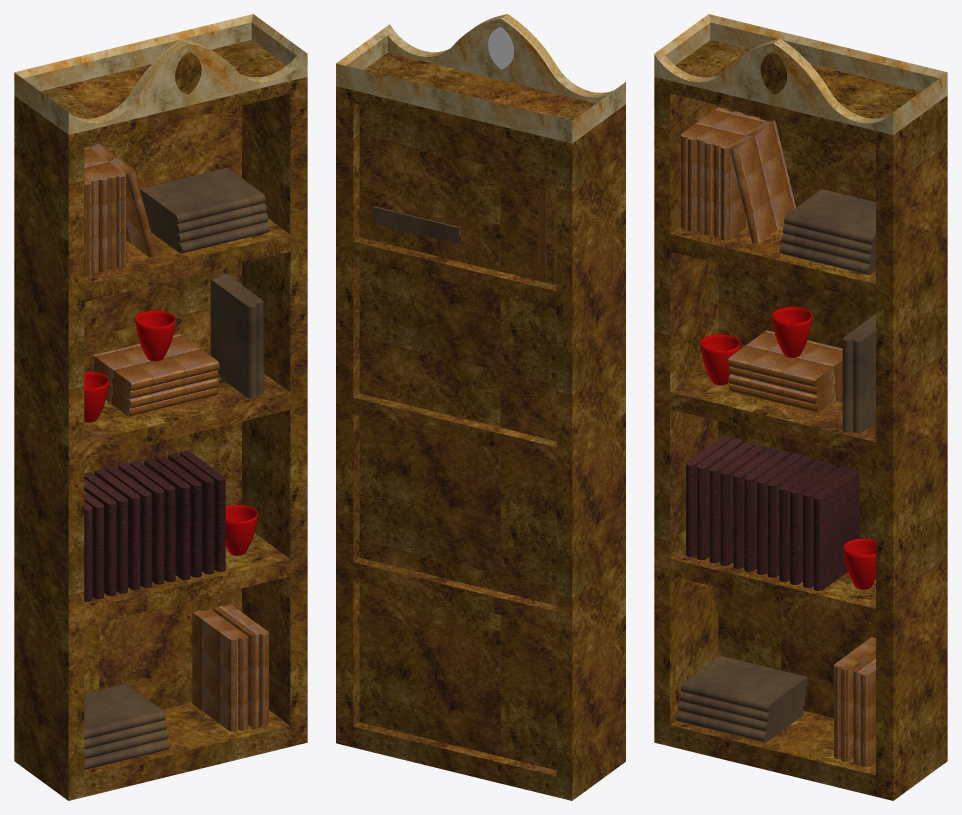
The model's file is bookcase1.FBX.
3 renders of one model, left to right at view 1: azimuth 30°, elevation 25°; view 2: azimuth 150°, elevation 25°; view 3: azimuth 330°, elevation 25°, orthographic.
Parts seen in each view (by area): view 1: Group9, Group3, Group10, Model, Group4, Group1, Group14, Group21, Group7, Group18, Group2, Group11 (+10 smaller); view 2: Group9, Group10, Group4, Group14, Group13; view 3: Group9, Group3, Group10, Group4, Model, Group7, Group21, Group14, Group19, Group18, Group15, Group2 (+10 smaller).
Boxes of the visible parts, x1,y1,x2,y2 form: Group9: (14, 40, 307, 800); Group3: (84, 450, 225, 601); Group10: (14, 14, 307, 134); Model: (192, 604, 268, 731); Group4: (84, 142, 157, 276); Group1: (210, 277, 256, 398); Group14: (140, 167, 265, 224); Group21: (93, 334, 219, 391); Group7: (84, 684, 165, 739); Group18: (135, 310, 175, 361); Group2: (225, 504, 257, 555); Group11: (148, 222, 269, 253); Group9: (336, 27, 625, 800); Group10: (336, 14, 625, 143); Group4: (537, 190, 556, 285); Group14: (372, 206, 460, 236); Group13: (373, 216, 460, 244); Group9: (654, 40, 947, 800); Group3: (686, 435, 859, 590); Group10: (654, 14, 947, 134); Group4: (680, 107, 796, 243); Model: (834, 637, 875, 767); Group7: (680, 655, 807, 713); Group21: (727, 330, 842, 387); Group14: (784, 189, 875, 245); Group19: (853, 322, 875, 433); Group18: (772, 307, 812, 357); Group15: (700, 334, 740, 385); Group2: (843, 538, 875, 589).
Bounding box in the file's own units: 73.03 × 212 × 28.78.
8 materials, 6 textured.
